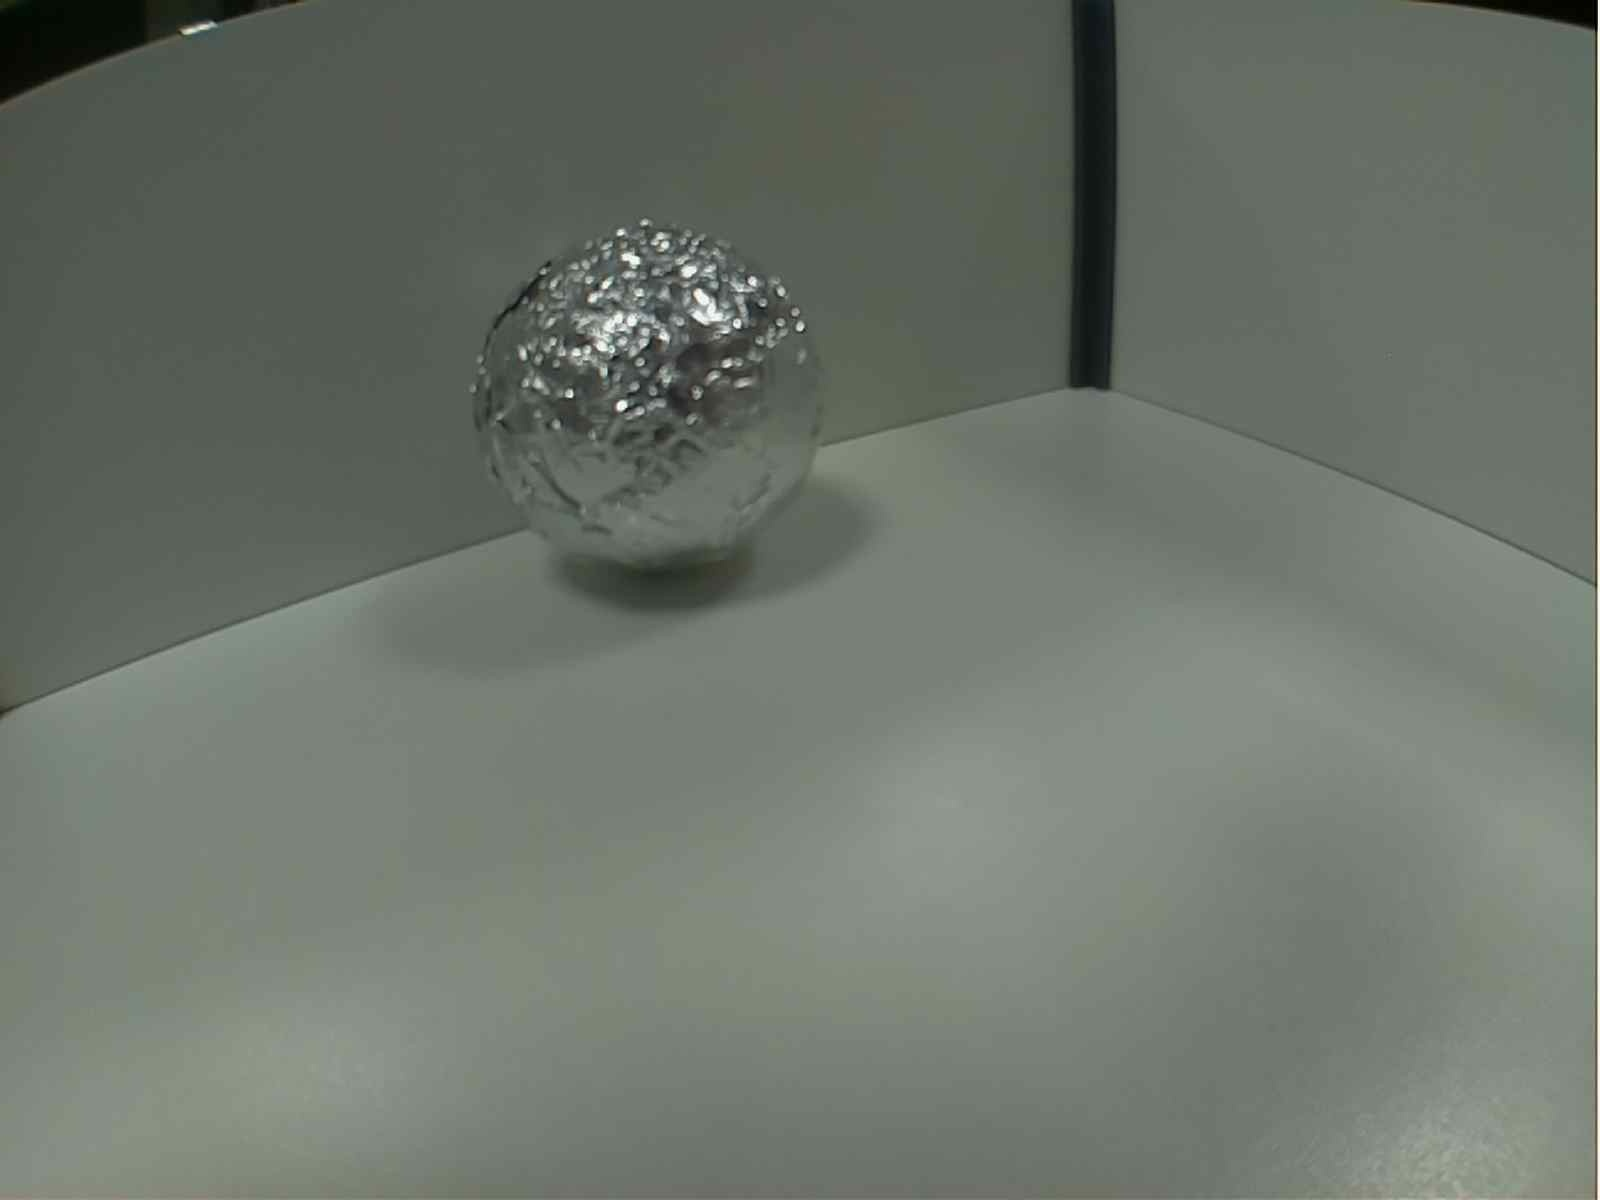bianca: (467, 209, 833, 584)
